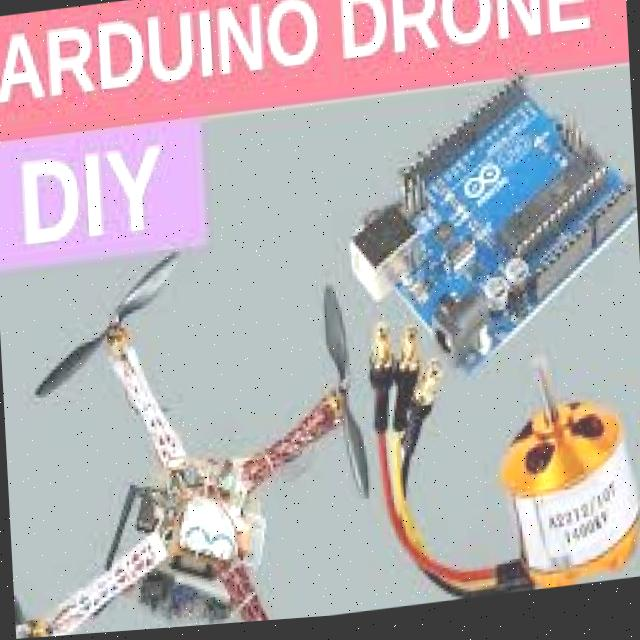drone: (0, 236, 383, 640)
